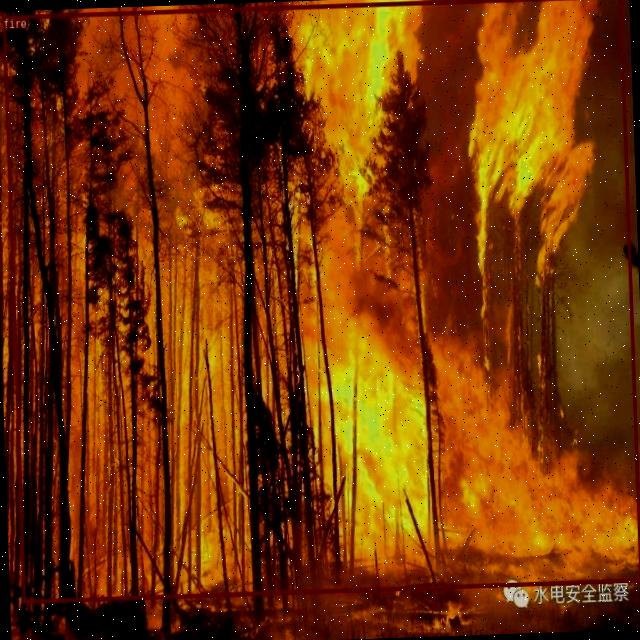fire: (1, 0, 640, 602)
